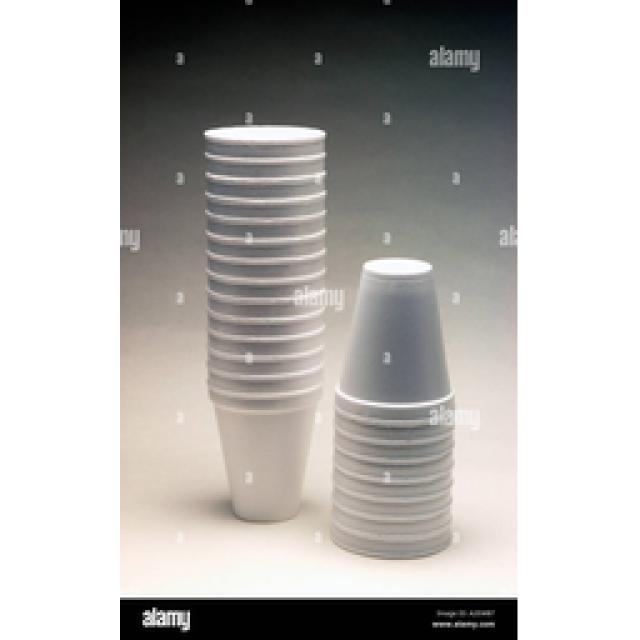styrofoam: (205, 125, 322, 520), (330, 258, 452, 558)
